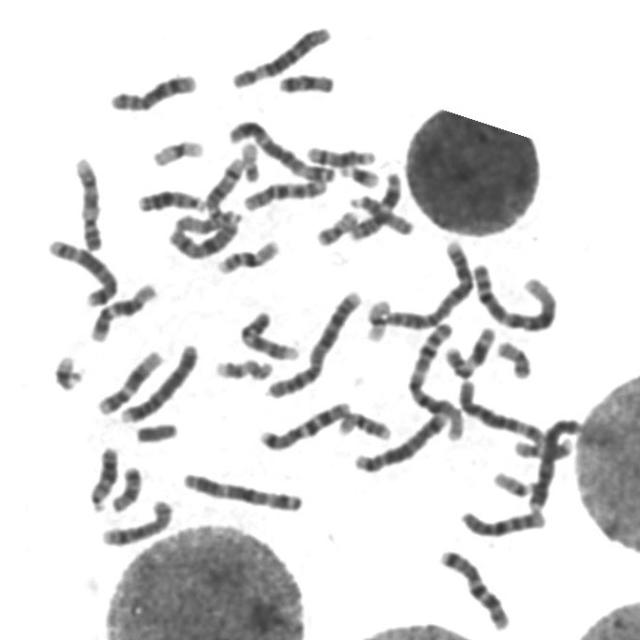A1: (404, 316, 468, 442), (467, 256, 562, 334)
A2: (262, 284, 366, 401), (381, 233, 477, 331)
A3: (224, 112, 339, 184), (177, 466, 309, 514)
B4: (117, 338, 203, 424), (524, 412, 586, 514)
B5: (352, 406, 452, 475), (43, 232, 123, 308)
C10: (239, 172, 332, 212), (456, 502, 552, 539)
C11: (344, 167, 406, 242), (441, 320, 500, 380)
C12: (93, 344, 167, 416), (87, 275, 162, 344)
C6: (227, 19, 335, 90), (454, 373, 550, 448)
C7: (436, 542, 514, 632), (255, 394, 355, 452)
C8: (105, 66, 202, 114), (97, 493, 177, 548)
C9: (235, 304, 304, 362), (70, 150, 108, 252)
D13: (85, 439, 123, 514), (134, 182, 212, 214)
D14: (201, 152, 249, 220), (303, 138, 380, 168)
D15: (347, 188, 418, 236), (168, 204, 246, 237)
E16: (213, 232, 284, 276), (334, 405, 396, 442)
E17: (212, 352, 277, 382), (510, 433, 575, 461)
E18: (108, 460, 146, 514), (274, 66, 339, 95)
F19: (148, 132, 208, 169), (361, 292, 395, 343)
F20: (312, 204, 362, 248), (492, 334, 536, 381)
G21: (48, 348, 88, 392), (336, 157, 384, 190)
G22: (490, 465, 535, 498), (237, 136, 265, 183)
X: (164, 206, 245, 262)
Y: (131, 416, 182, 444)
